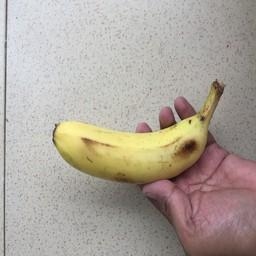Banana Ripe: (39, 81, 240, 210)
